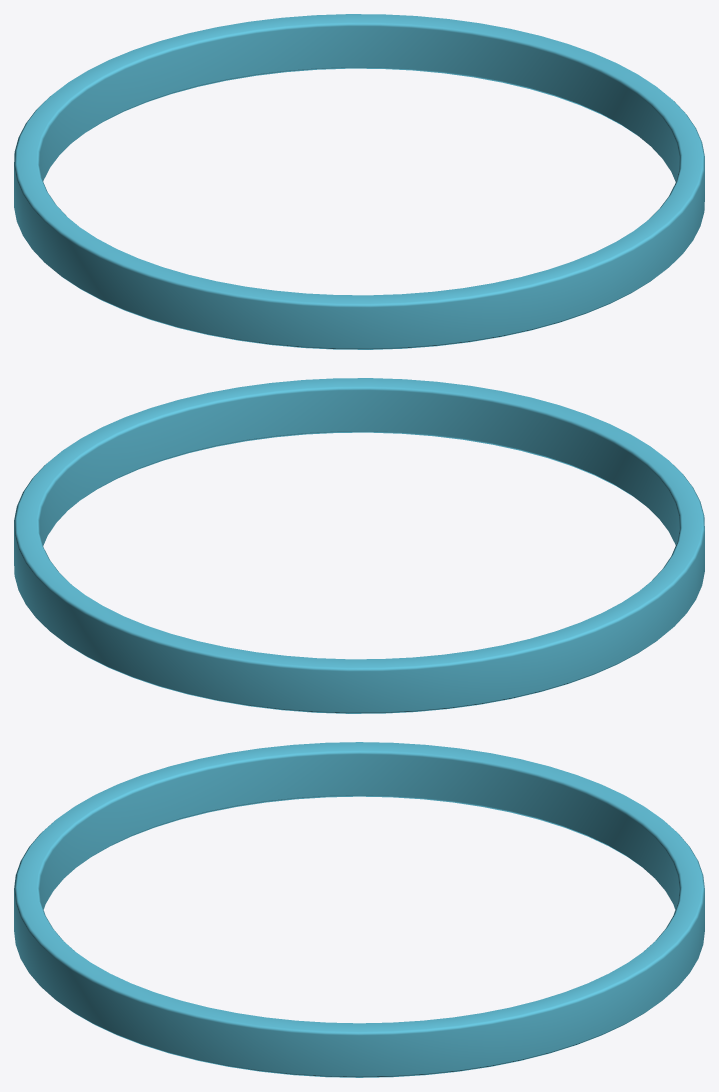
3 renders of one model, top to bottom at view 1: azimuth 30°, elevation 25°; view 2: azimuth 150°, elevation 25°; view 3: azimuth 270°, elevation 25°, orthographic.
Visible parts, largest first — view 1: seal_body; view 2: seal_body; view 3: seal_body.
Part boxes in pixels (box(x1,y1,x2,y2)): seal_body: box(14, 14, 704, 349); seal_body: box(14, 378, 704, 713); seal_body: box(14, 742, 704, 1077).
Size of the model in its own units: 0.1715 by 0.0127 by 0.1715.
